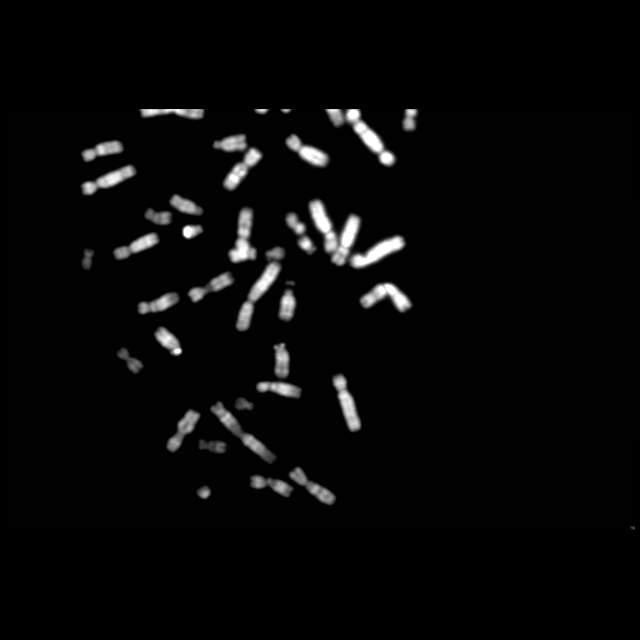chromosome: (212, 401, 274, 465), (234, 263, 280, 331), (352, 235, 404, 271), (290, 467, 338, 505), (332, 374, 362, 434), (81, 164, 135, 196), (357, 124, 395, 166), (224, 148, 262, 190), (362, 282, 412, 312), (309, 199, 336, 253), (332, 214, 360, 266), (286, 134, 328, 168), (166, 410, 199, 452), (190, 271, 232, 303), (115, 231, 159, 261), (138, 292, 180, 314), (252, 475, 293, 497), (236, 208, 254, 258), (82, 140, 122, 162), (156, 326, 182, 356), (256, 382, 302, 398), (170, 194, 202, 216), (141, 108, 204, 118), (117, 349, 143, 373), (212, 133, 246, 151), (274, 343, 290, 377), (279, 288, 295, 320), (346, 110, 366, 134), (144, 208, 170, 226), (285, 212, 305, 235), (229, 248, 256, 262), (198, 440, 225, 454), (298, 236, 316, 256), (402, 108, 416, 130), (183, 224, 203, 238), (265, 247, 285, 261), (234, 398, 253, 412), (82, 250, 94, 270), (198, 485, 210, 499)
